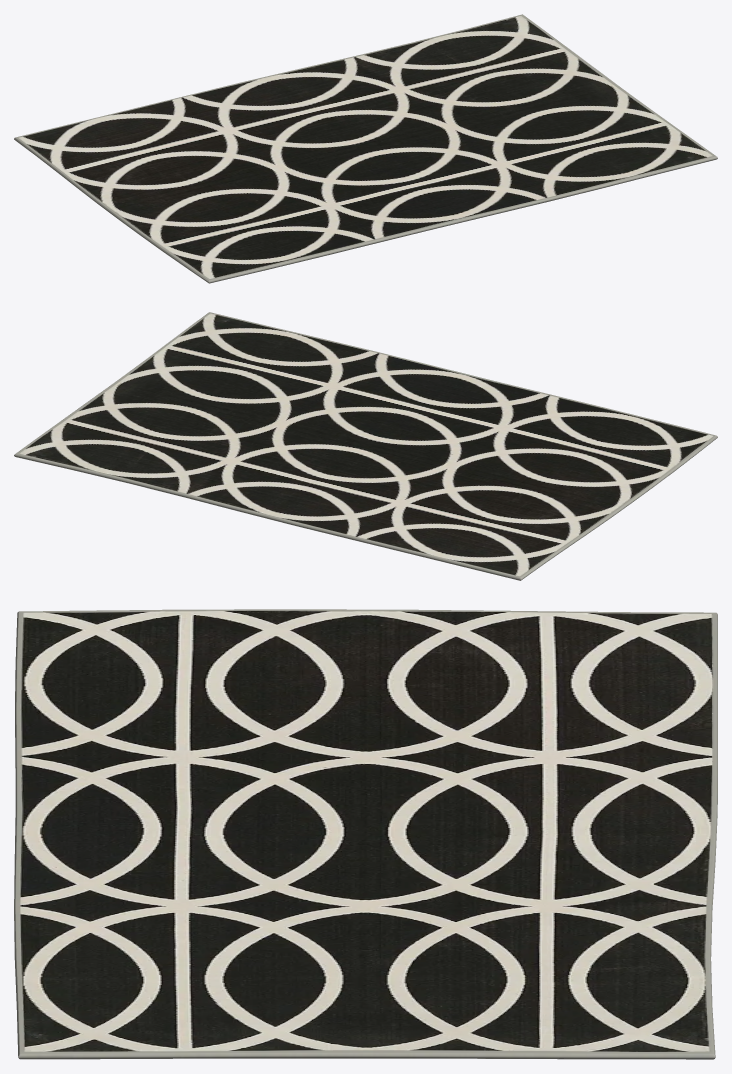
Rendered from B07NXTKC72.glb.
3 views of the same model, one above another, from view 1: azimuth 30°, elevation 25°; view 2: azimuth 150°, elevation 25°; view 3: azimuth 270°, elevation 25° (orthographic). The views are drawn at different scales.
Visible parts, largest first — view 1: RootNode; view 2: RootNode; view 3: RootNode.
Boxes of the visible parts, x1,y1,x2,y2 form: RootNode: (14,14,717,283); RootNode: (14,312,717,580); RootNode: (14,609,717,1059).
Bounding box in the file's own units: 2.29 × 0.0137 × 1.53.
Materials: 1 (1 with a texture image).
